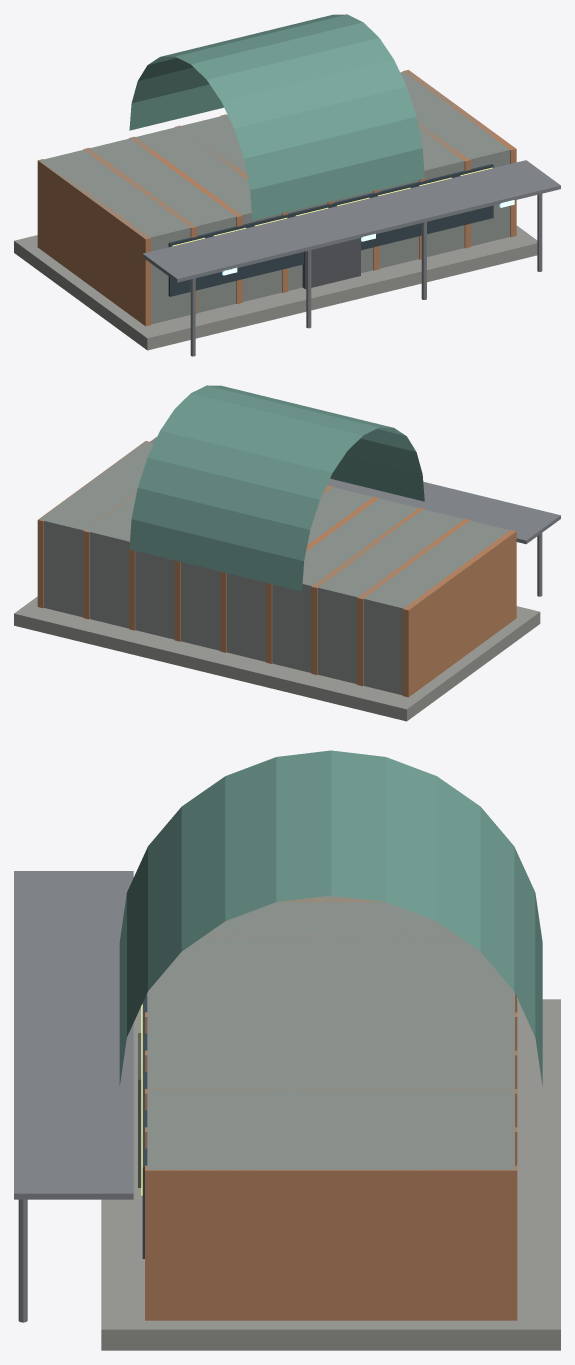
Rendered from tram_station.glb.
The picture shows the model from 3 angles, top to bottom: view 1: azimuth 30°, elevation 25°; view 2: azimuth 150°, elevation 25°; view 3: azimuth 270°, elevation 25°; orthographic projection. The views are drawn at different scales.
Visible parts, largest first — view 1: tram_station; view 2: tram_station; view 3: tram_station.
Boxes of the visible parts, x1=… form: tram_station: x1=14, y1=14, x2=560, y2=356; tram_station: x1=14, y1=385, x2=560, y2=721; tram_station: x1=14, y1=750, x2=560, y2=1350.
Size of the model in its own units: 17 by 8.7 by 11.9.
